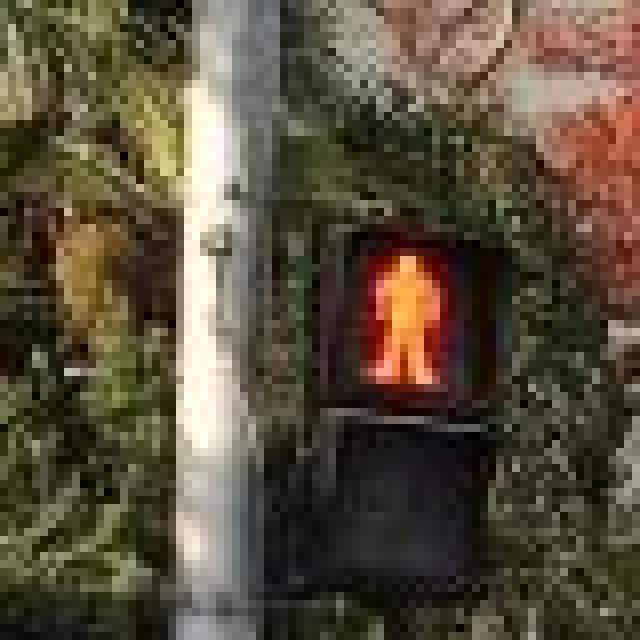redlight: (296, 200, 488, 600)
